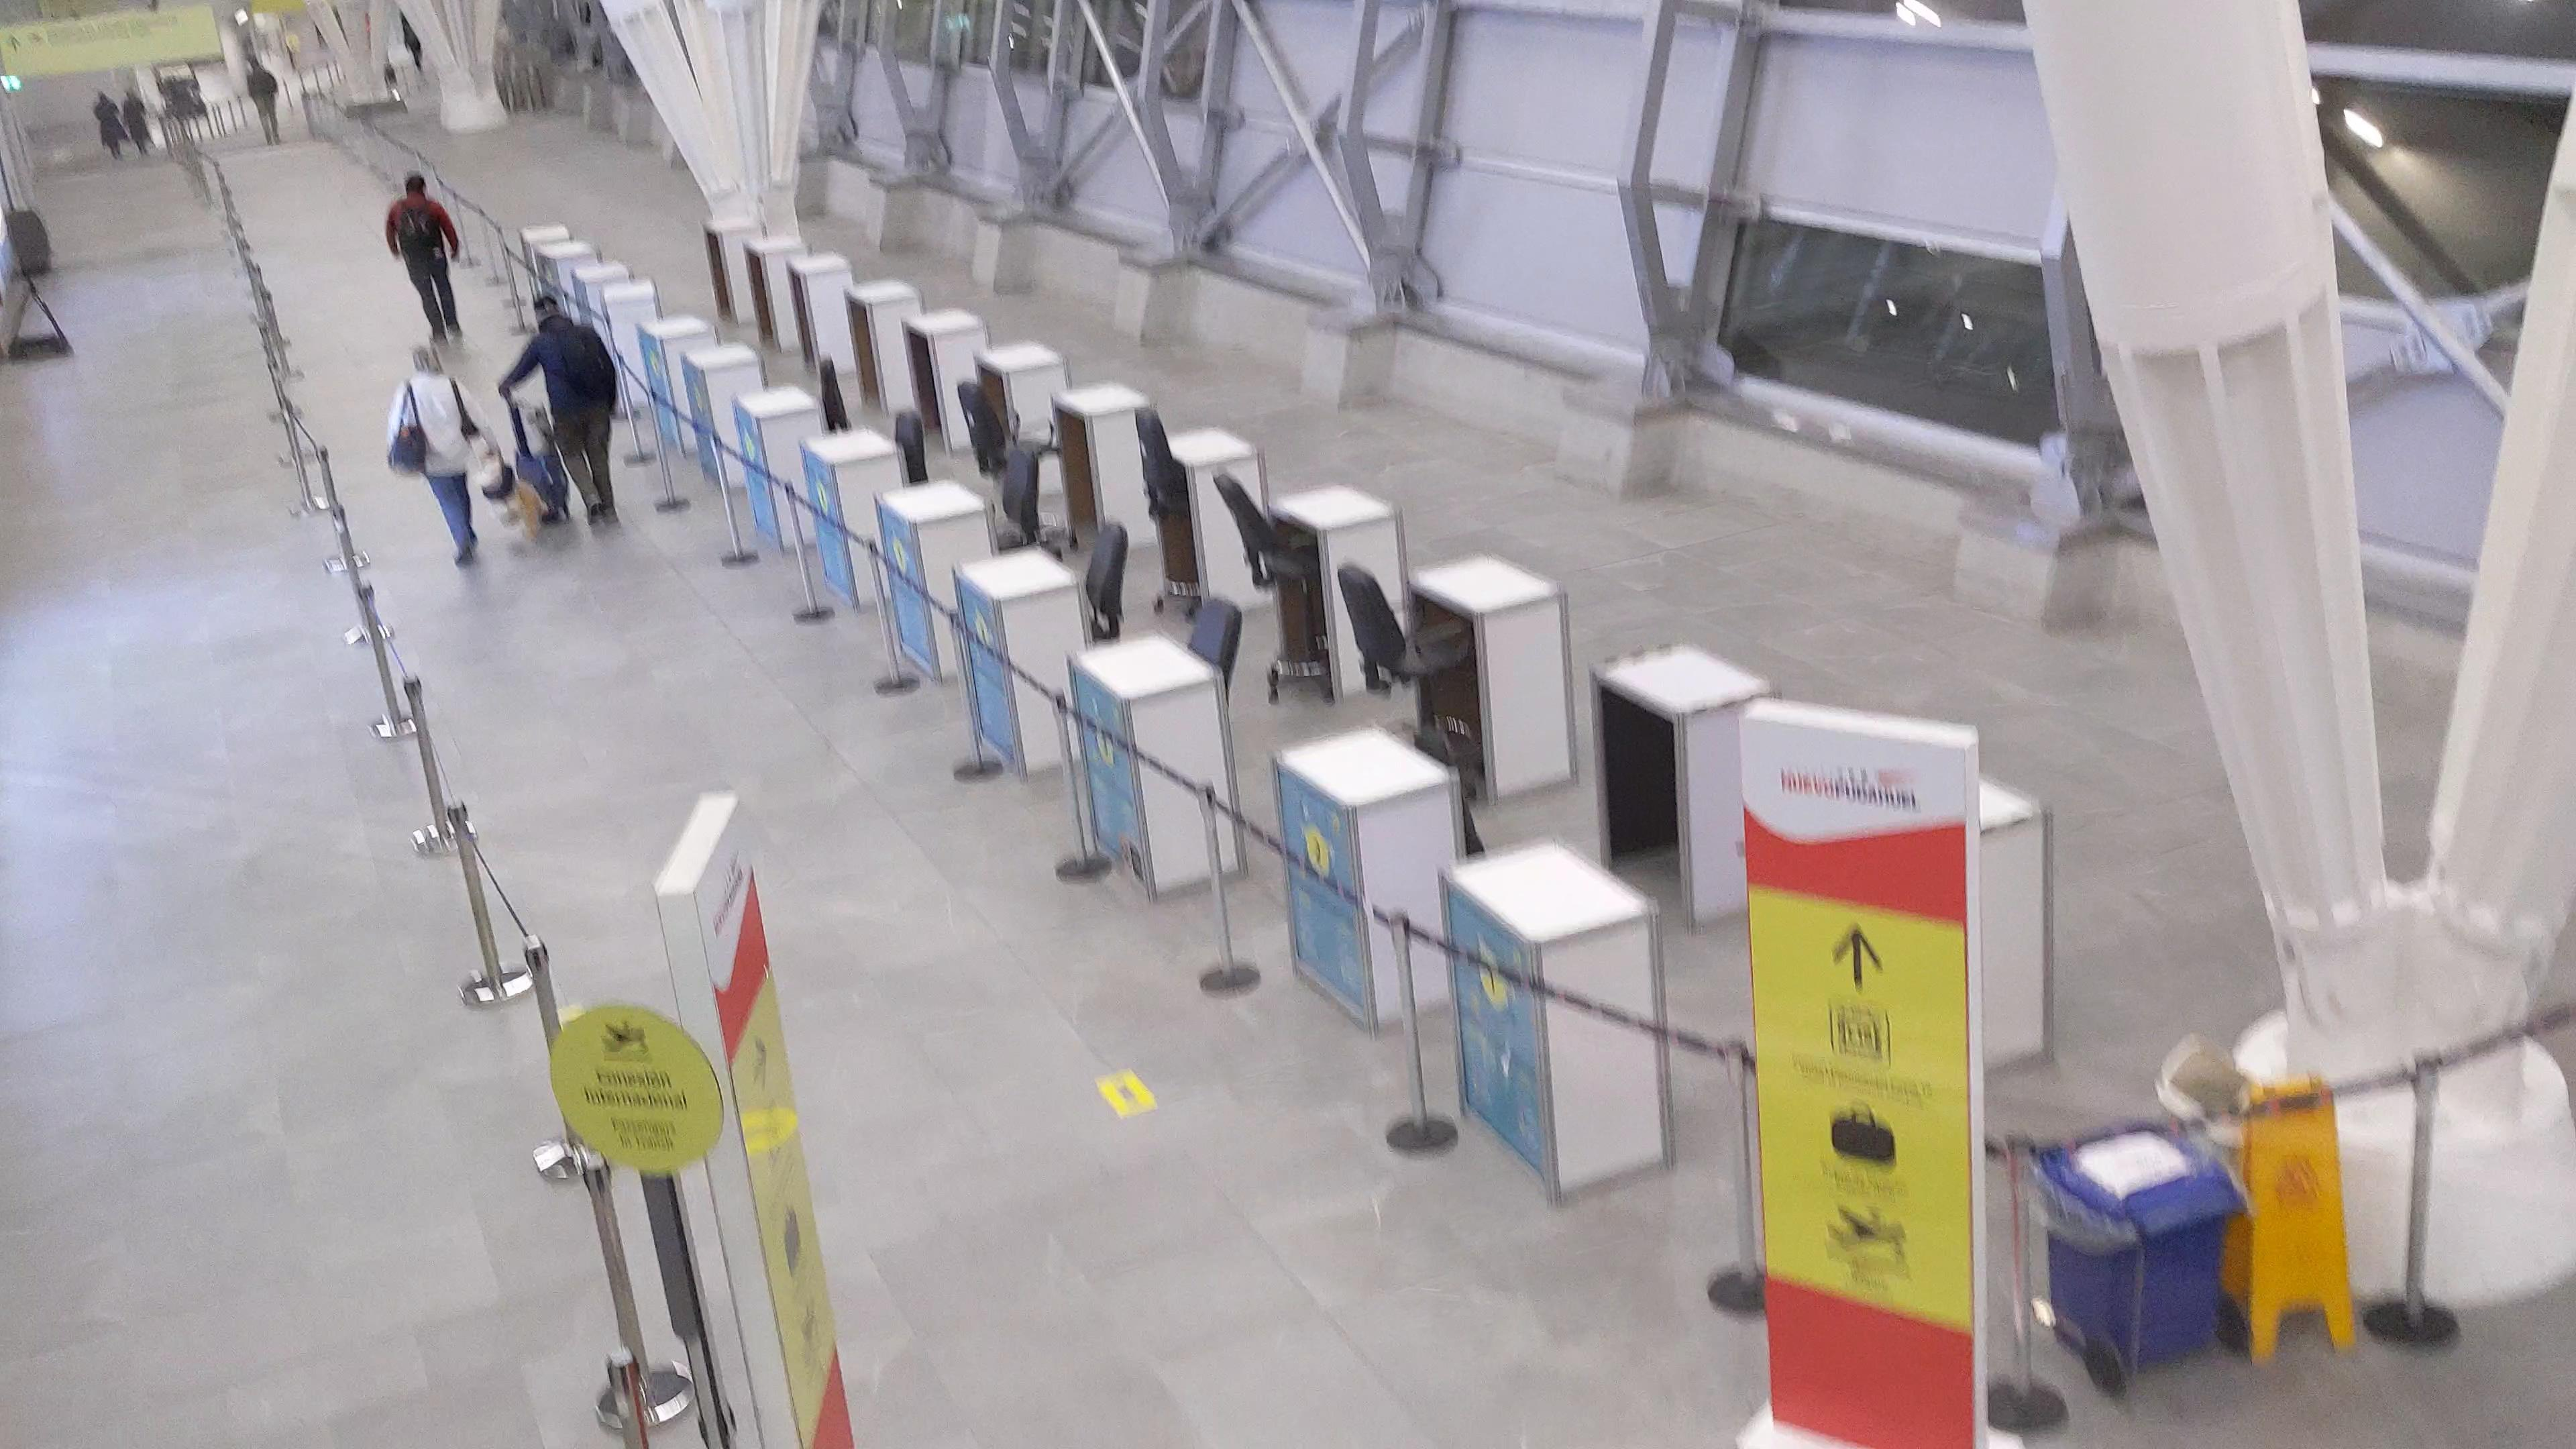baggage claim: (1826, 1099, 1902, 1177)
thin up arrow: (1829, 918, 1890, 998)
